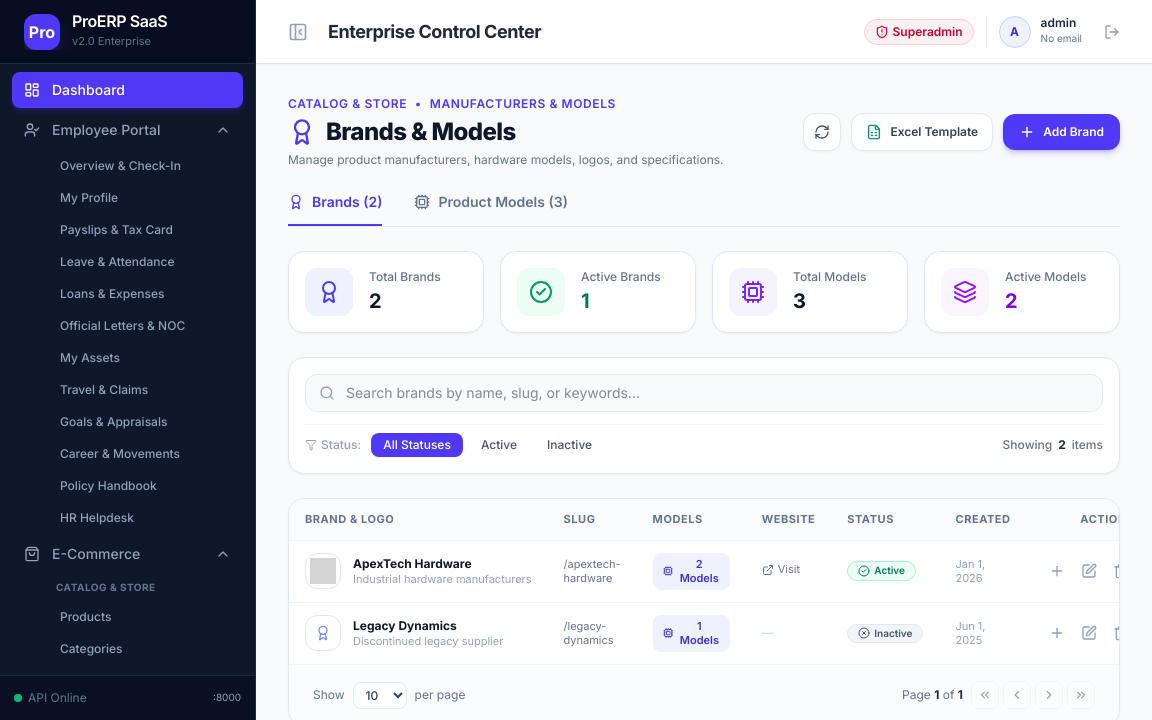
Test case: Ecommerce Brands & Models In-Place Non-Destructive Filtering Audit › switches to Models tab and filters models in-place
Switch to Models tab
Click the button "Product Models (3)" at (491, 209), box [414,192,568,226]
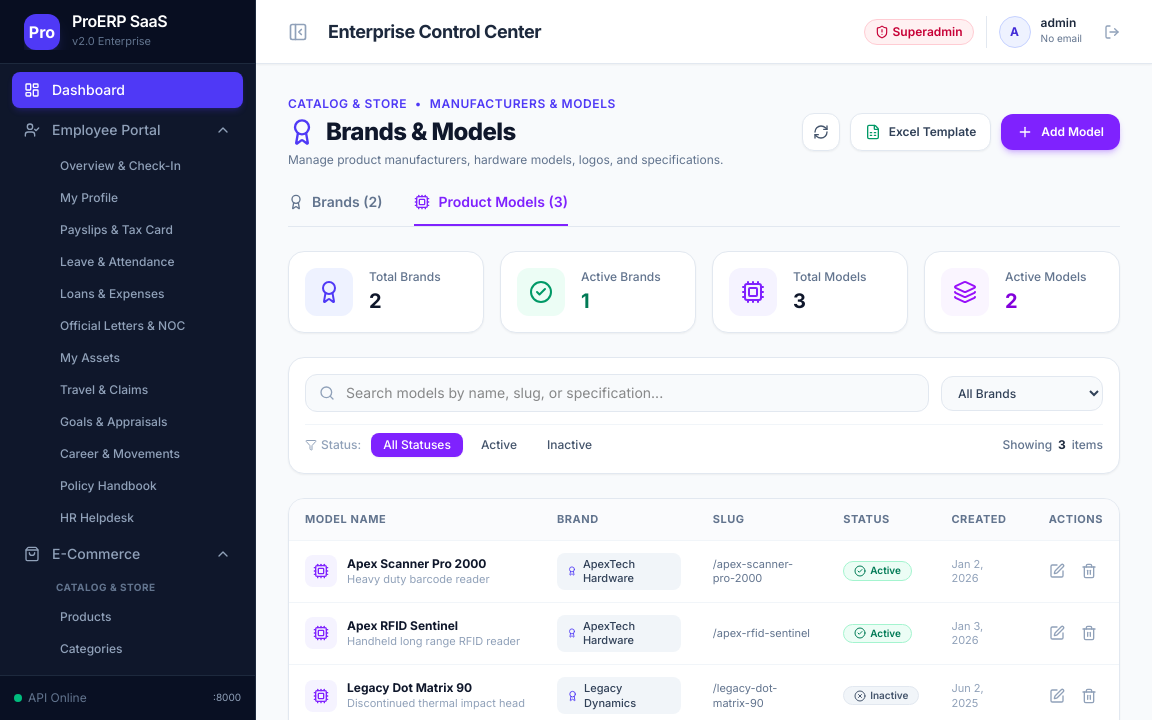
Expected: the text "Apex Scanner Pro 2000" is shown, [347,556,490,572]
Expected: the text "Apex RFID Sentinel" is shown, [347,618,458,633]
Expected: the text "Legacy Dot Matrix 90" is shown, [347,680,472,696]
Type "Sentinel" into the field with placeholder "Search models by name, slug, or specification..." at (617, 393), box [305,374,929,412]
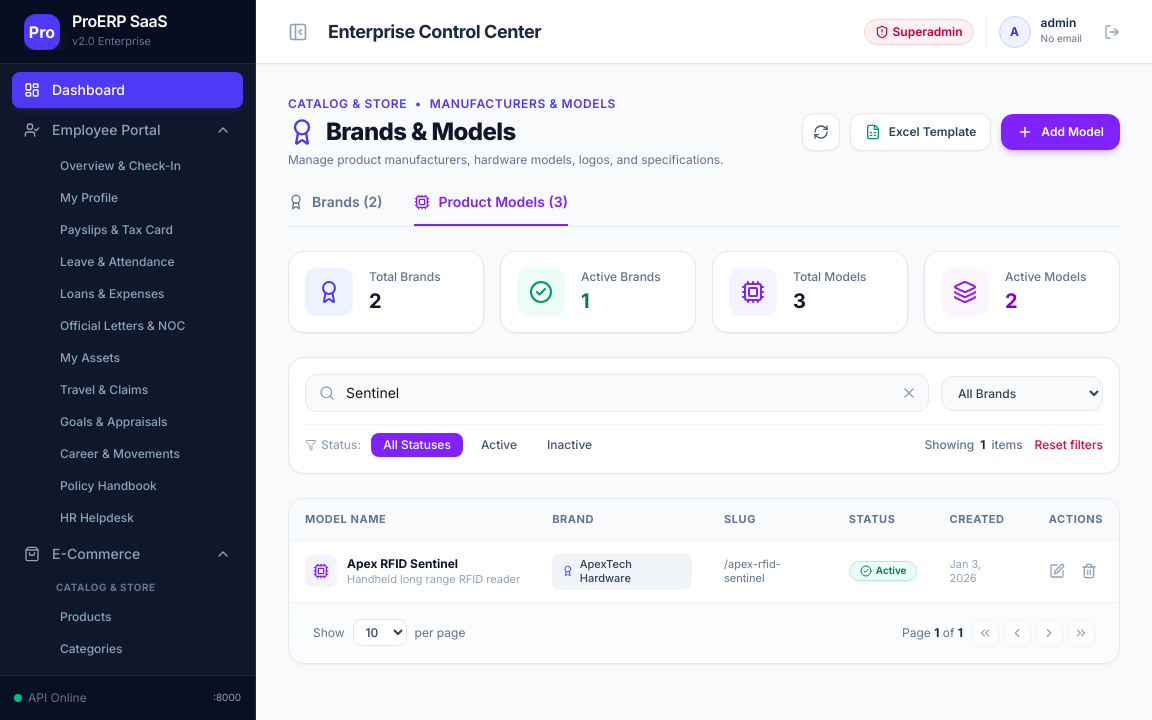
Expected: the text "Apex RFID Sentinel" is shown, [347,556,458,571]
Expected: the text "Apex Scanner Pro 2000" is gone
Expected: the text "Legacy Dot Matrix 90" is gone
